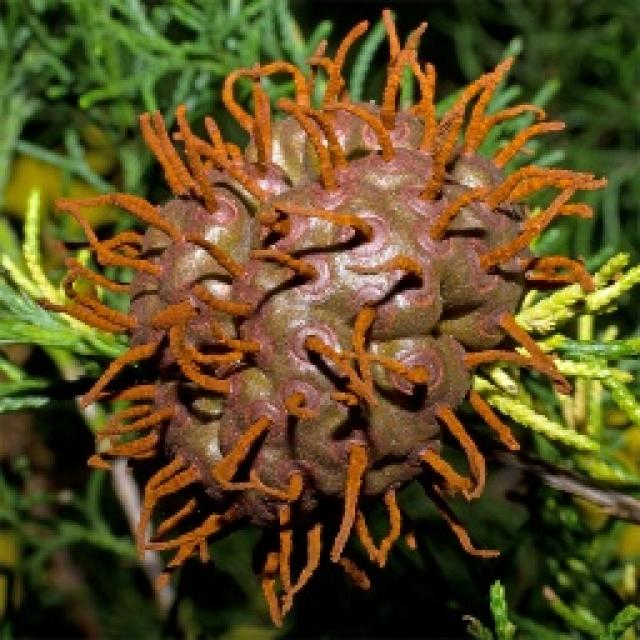Gymnosporangium_Rusts: (38, 8, 608, 628)
